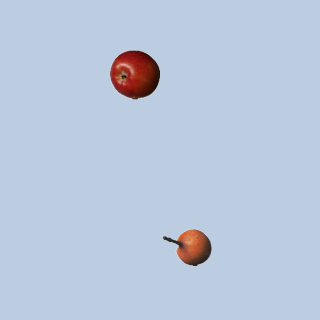Apple Braeburn: (109, 49, 159, 99)
Granadilla: (161, 222, 211, 272)
